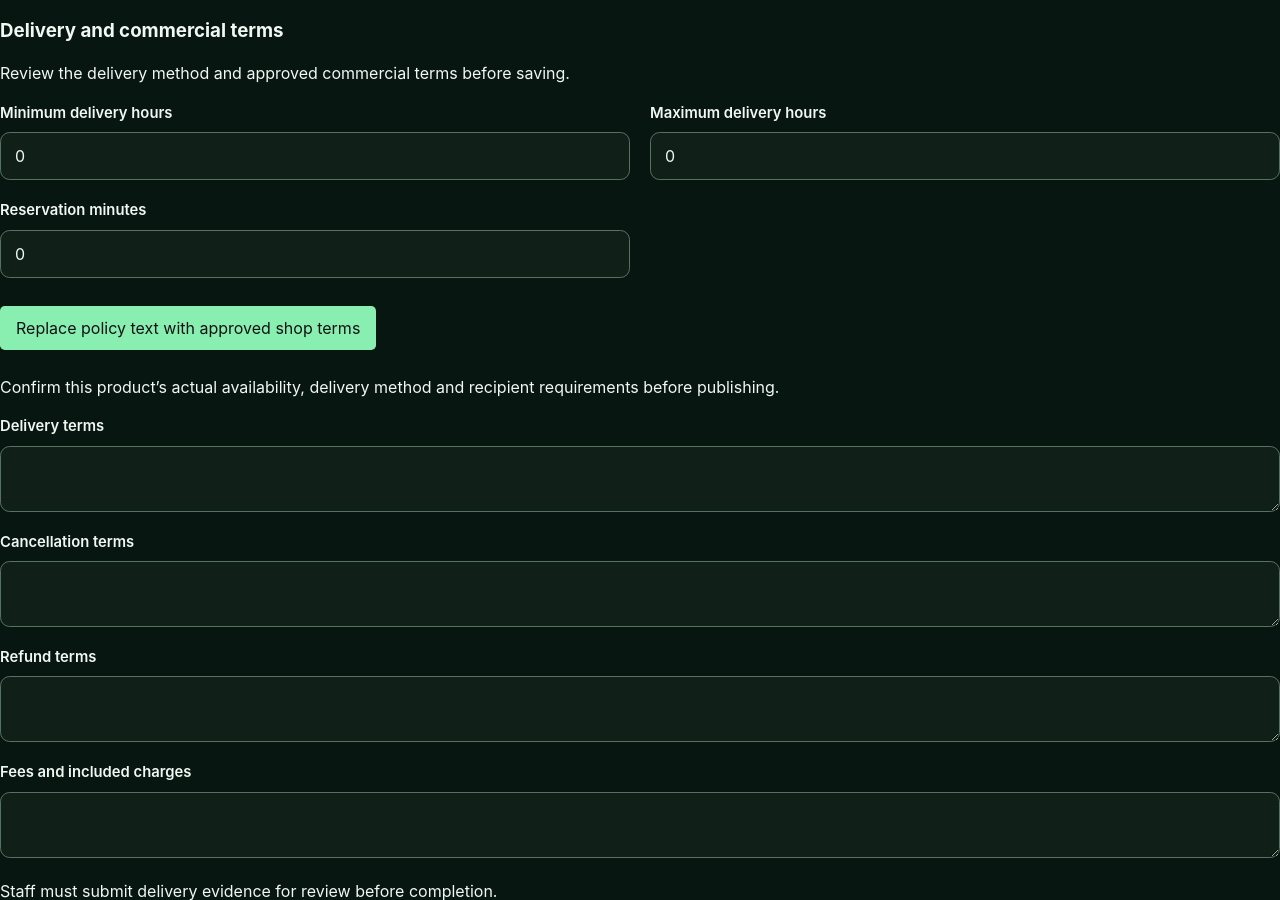
Scenario: preserves delivery capacity edited during shop template loading
Click the button "Replace policy text with approved shop terms" at (188,328), box [0, 306, 376, 350]
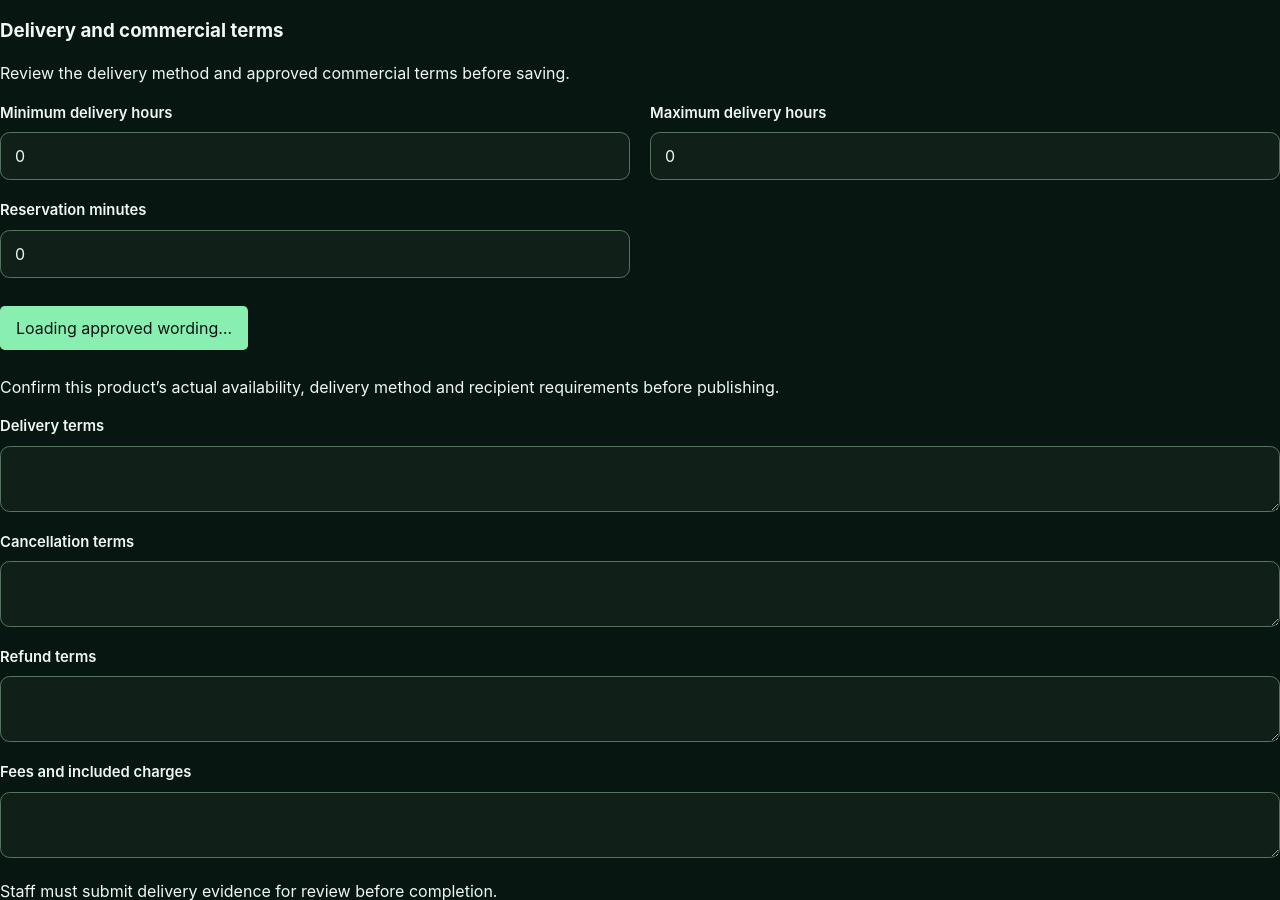
Replace the text in the field labelled "Maximum delivery hours" with "48" at (965,156), box [650, 132, 1279, 180]
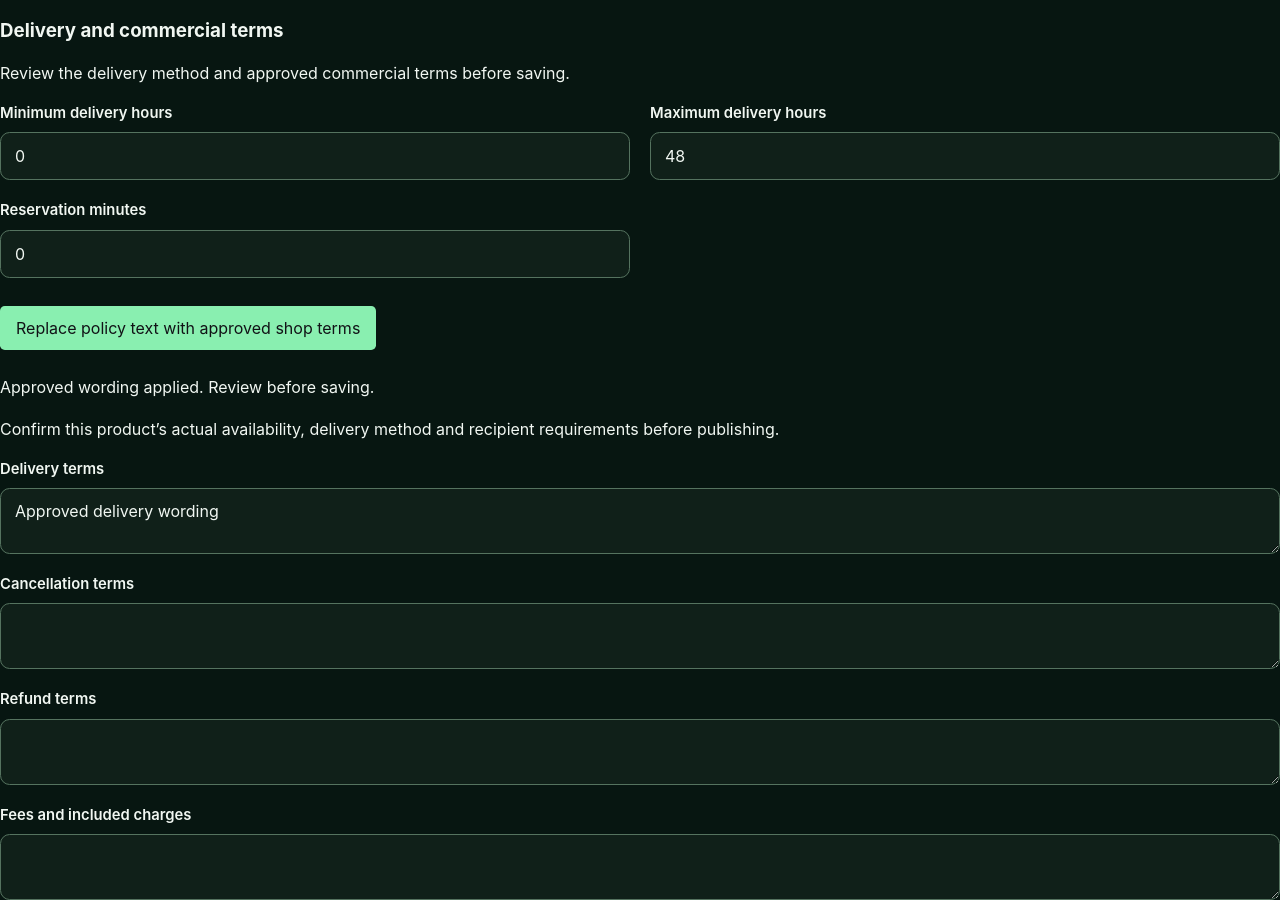
Check: the text box labelled "Delivery terms" holds "Approved delivery wording", box [0, 488, 1279, 554]
